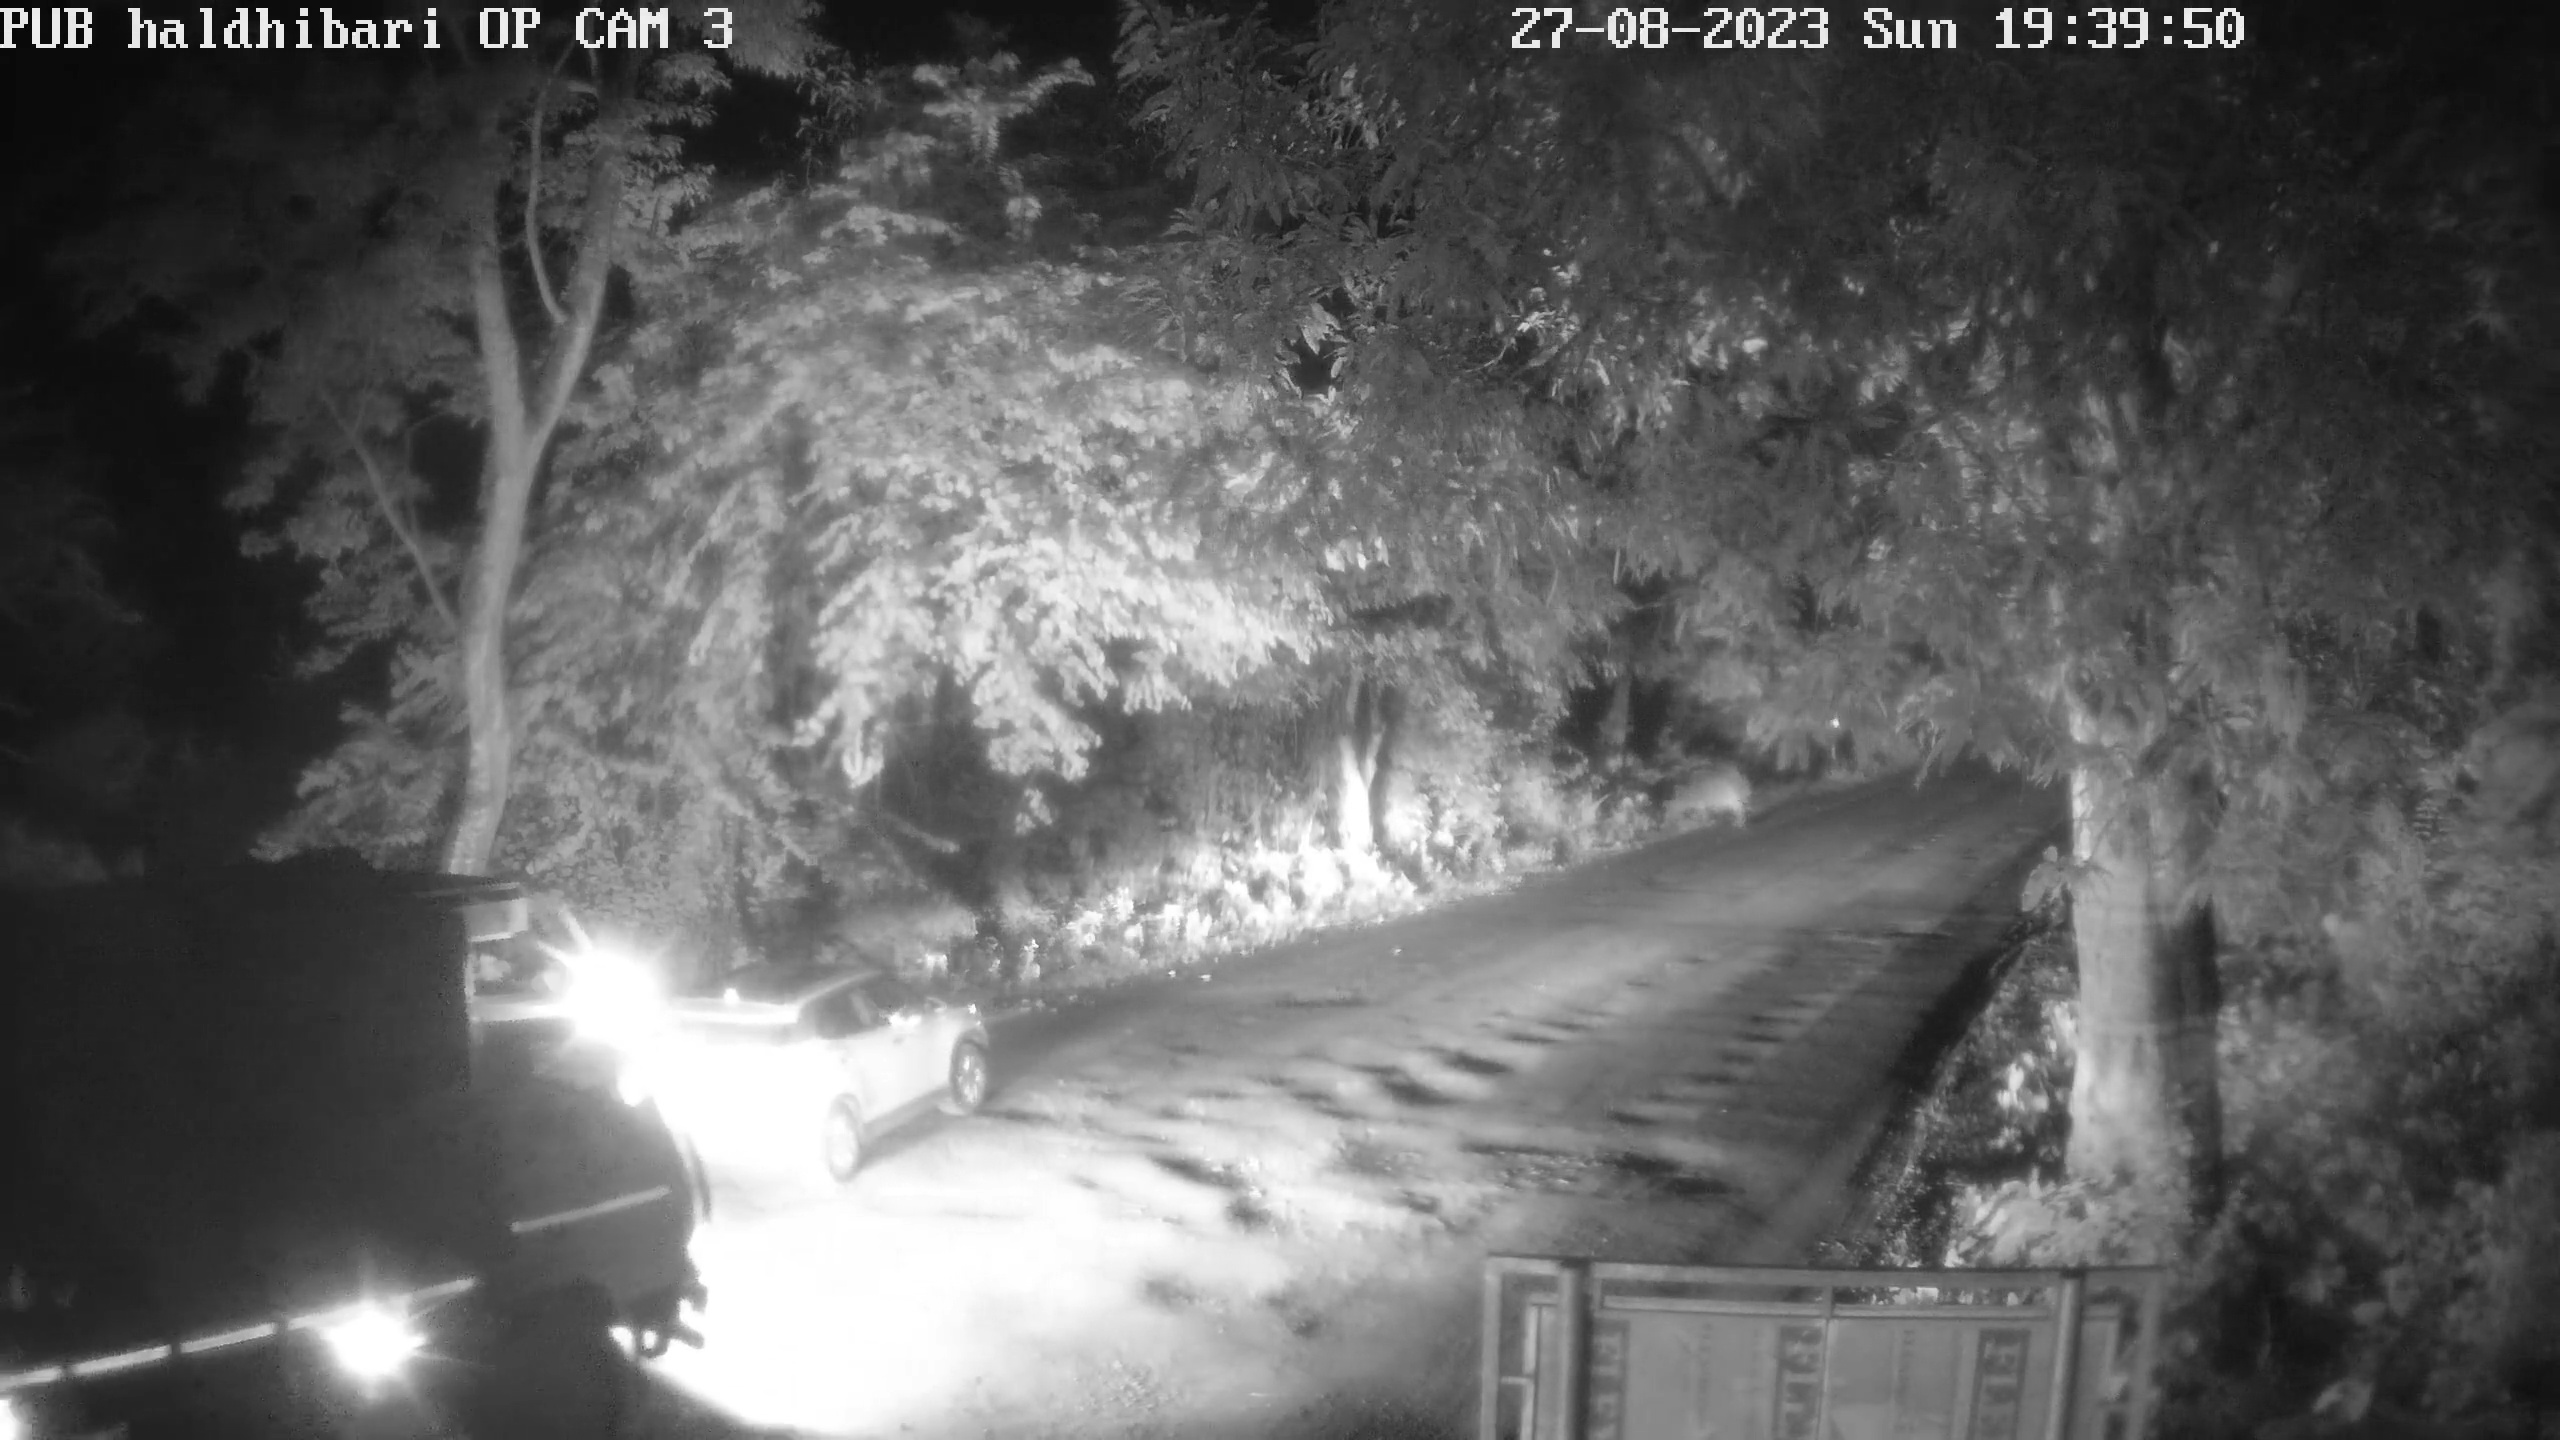rhinos: (1658, 754, 1756, 830)
